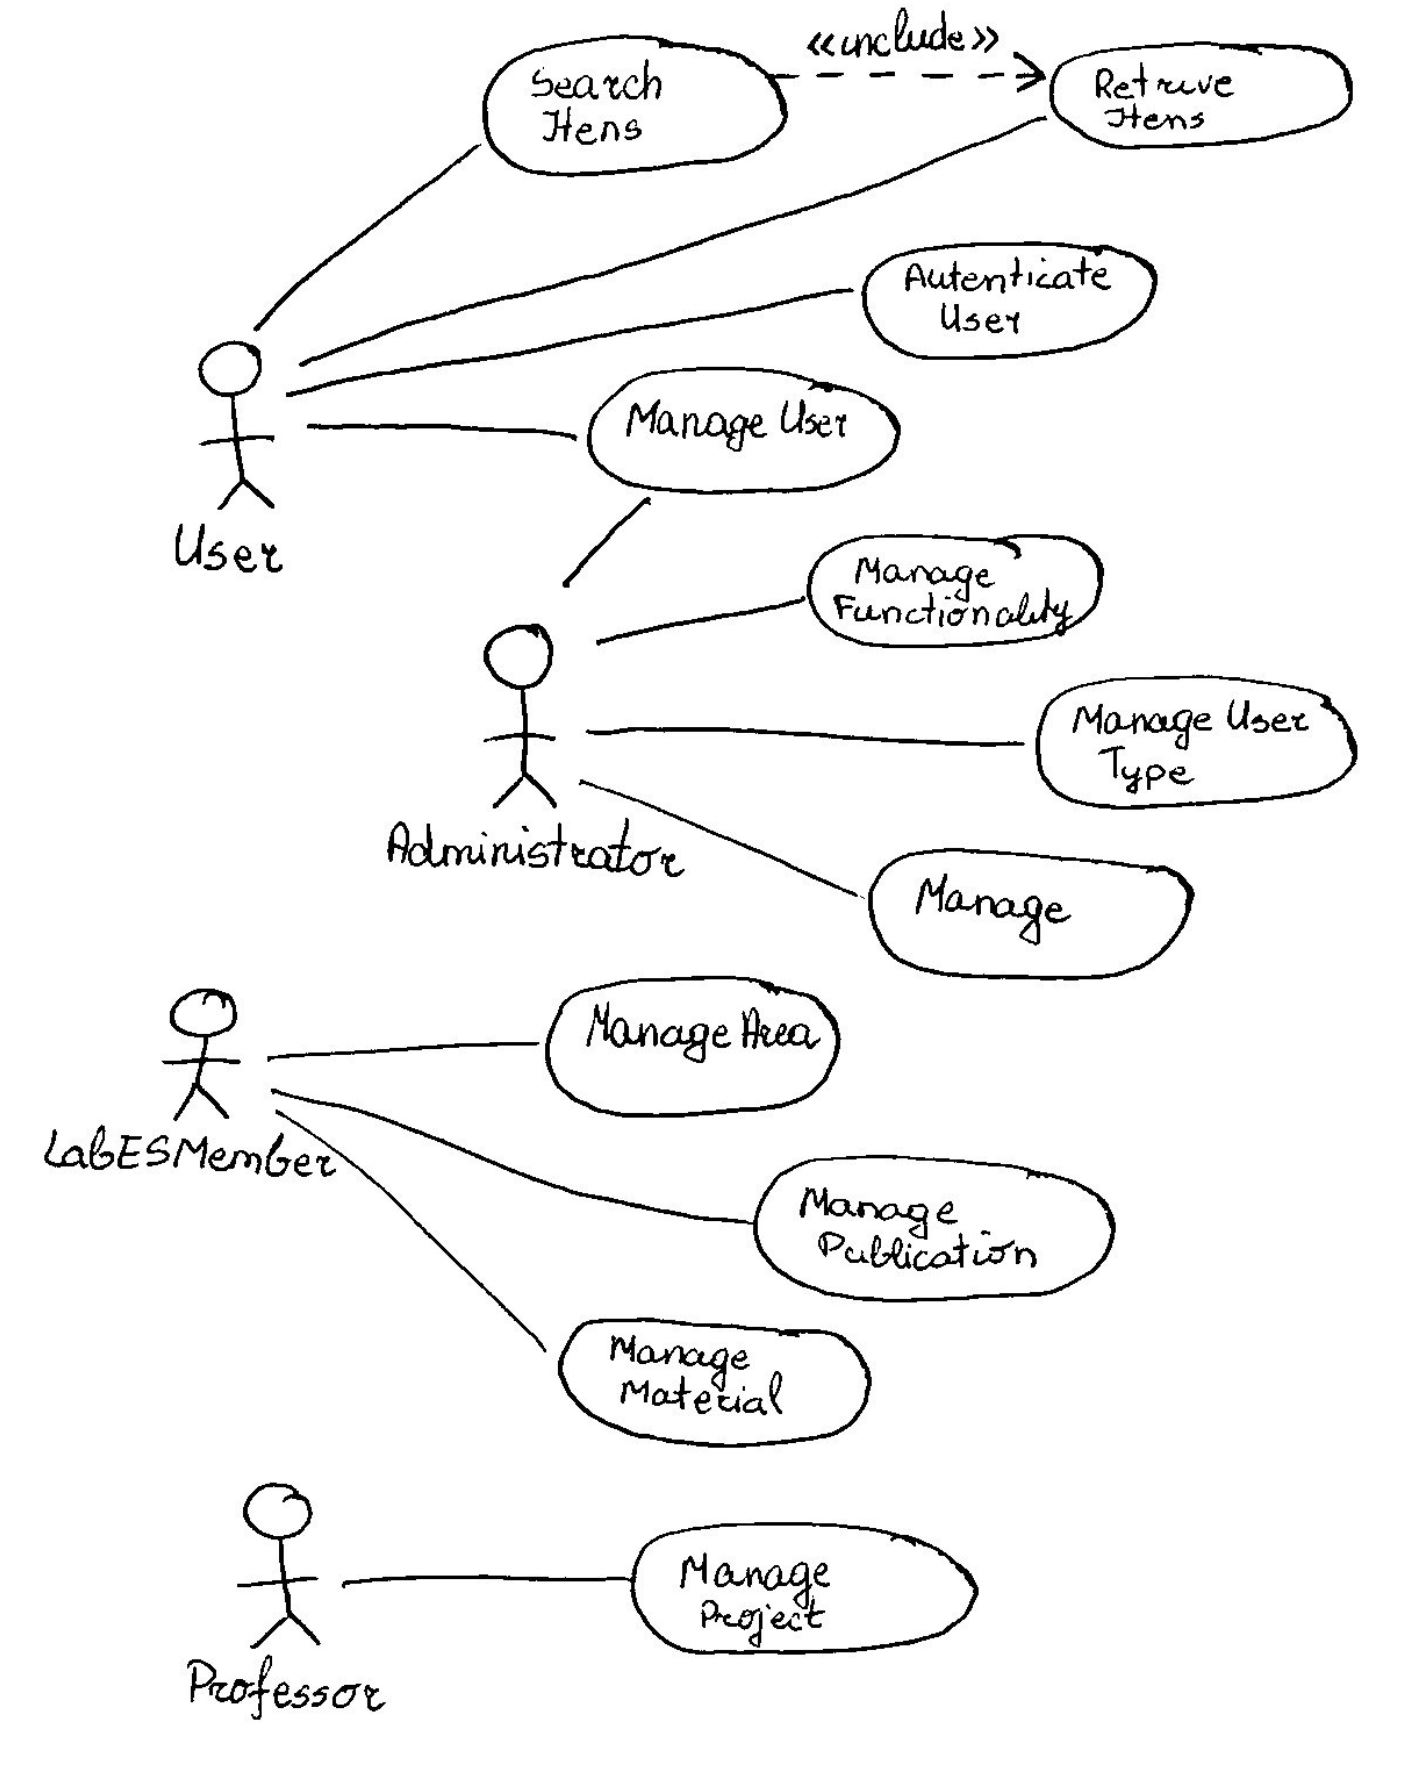actor: (475, 619, 568, 813), (190, 338, 286, 515), (235, 1478, 330, 1650), (157, 985, 242, 1125)
association: (299, 110, 1052, 369), (273, 1108, 553, 1360), (286, 280, 858, 398), (278, 1090, 749, 1233), (257, 133, 485, 327), (577, 776, 863, 901), (581, 708, 1022, 762), (342, 1548, 623, 1607), (268, 1017, 537, 1073), (306, 405, 581, 453), (589, 596, 809, 648), (554, 490, 658, 597)
text: (791, 1176, 1043, 1274), (1063, 697, 1327, 790), (382, 813, 695, 881), (32, 1119, 351, 1183), (900, 251, 1117, 339), (825, 551, 1071, 627), (600, 1331, 817, 1416), (667, 1551, 847, 1644), (918, 865, 1115, 951), (175, 1653, 407, 1725), (579, 997, 820, 1064), (623, 389, 854, 457), (519, 61, 672, 149), (796, 4, 1001, 61), (1086, 61, 1235, 136), (160, 511, 299, 577)
use_case: (750, 1152, 1114, 1305), (631, 1520, 978, 1656), (1032, 674, 1356, 811), (870, 848, 1192, 984), (483, 38, 789, 176), (558, 1315, 873, 1450), (545, 974, 840, 1116), (590, 366, 899, 498), (807, 531, 1104, 652), (863, 239, 1157, 361), (1049, 38, 1353, 153)
